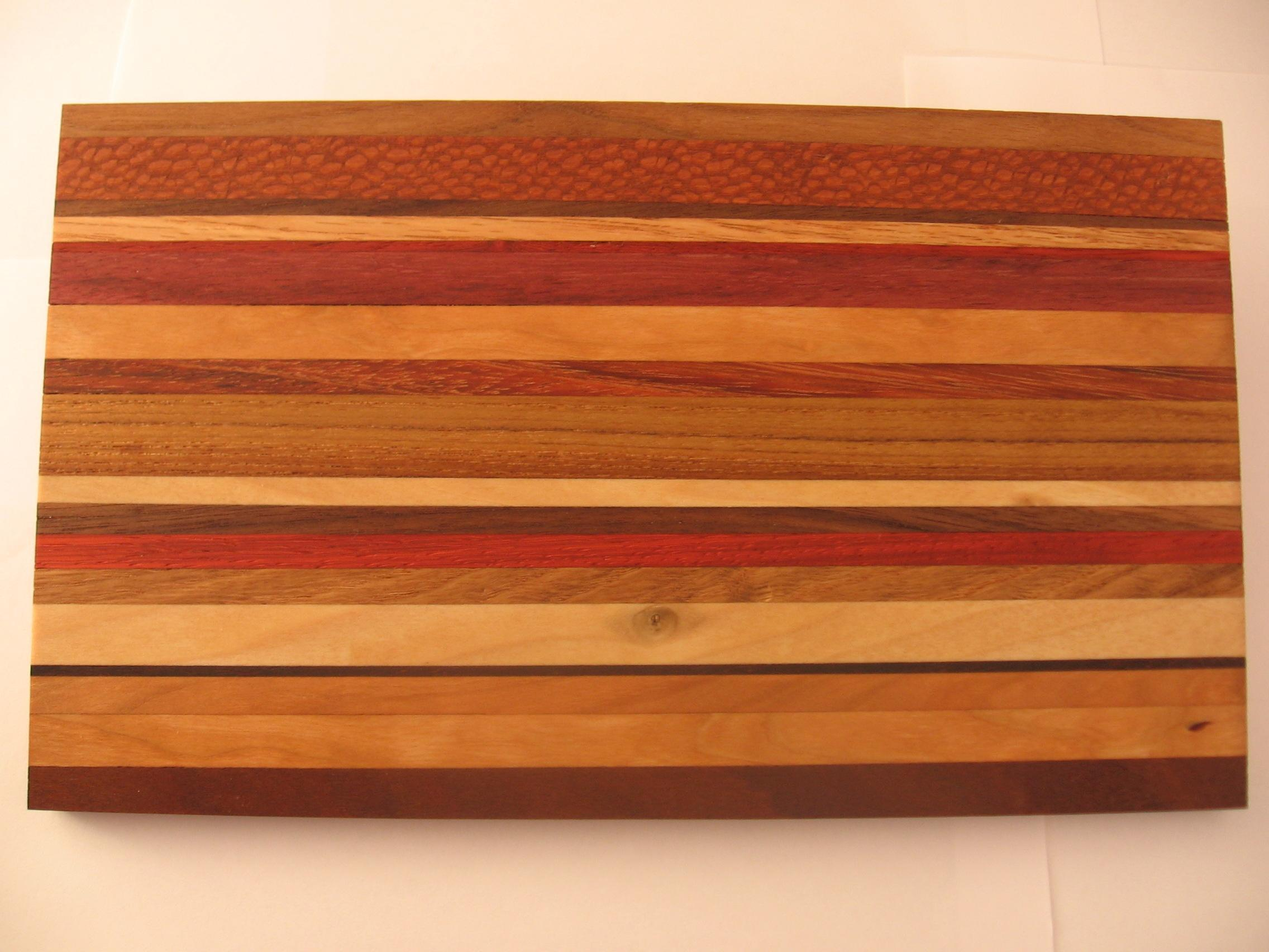gloved_hand: (15, 76, 1269, 846)
